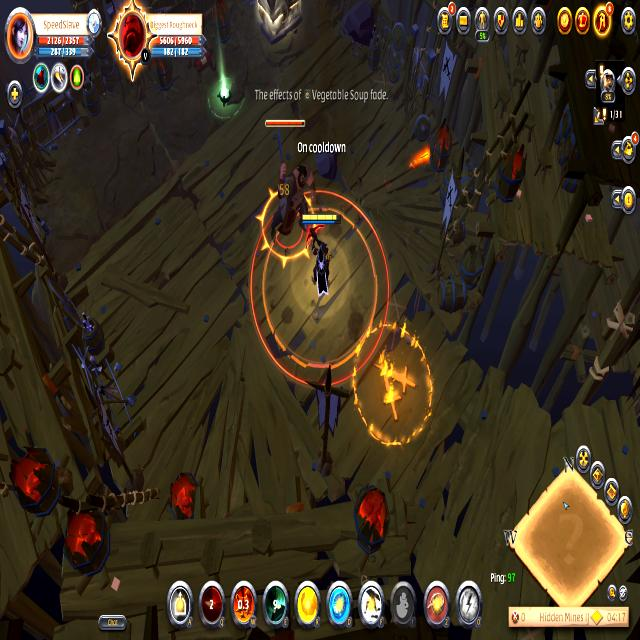ore: (256, 108, 320, 262)
red: (300, 208, 342, 300)
silver: (249, 188, 390, 388), (264, 208, 379, 369)
